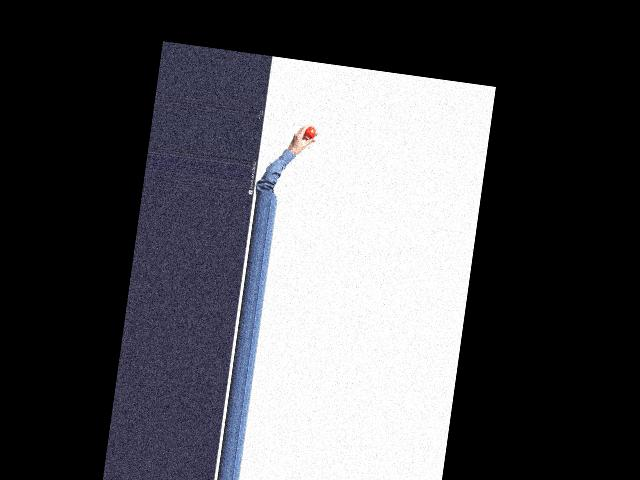tomato: (304, 125, 316, 138)
